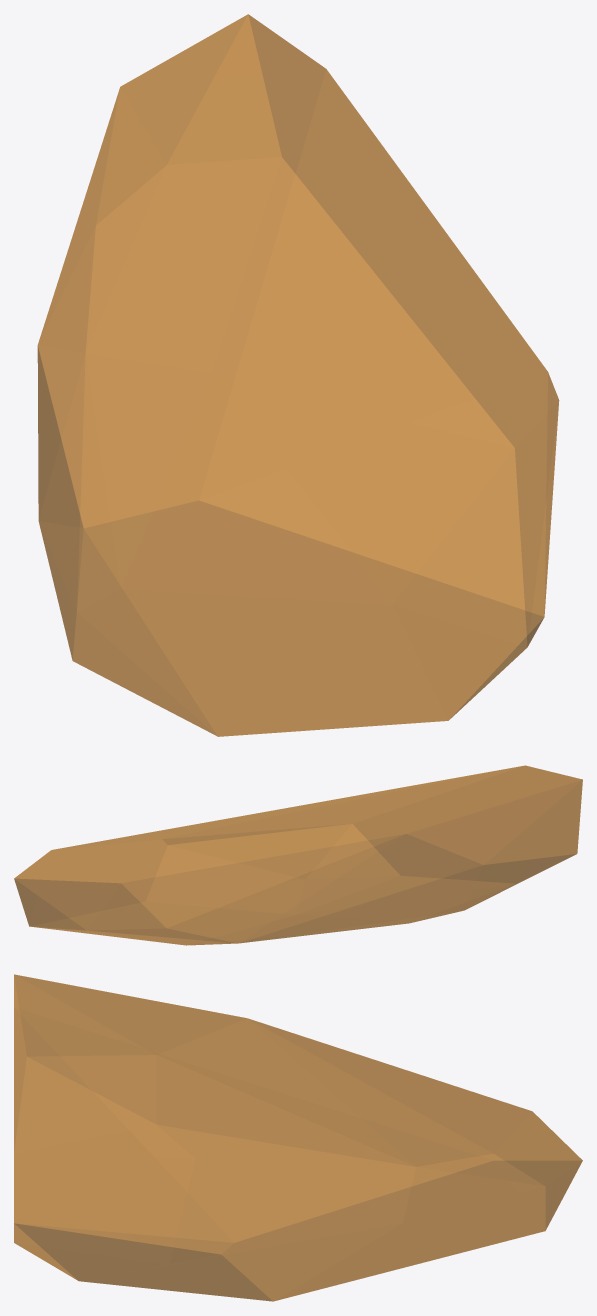
The picture shows the model from 3 angles, top to bottom: view 1: azimuth 30°, elevation 25°; view 2: azimuth 150°, elevation 25°; view 3: azimuth 270°, elevation 25°; orthographic projection. The views are drawn at different scales.
Visible parts, largest first — view 1: Shape_IndexedFaceSet.011_Shape_IndexedFaceSet.1950; view 2: Shape_IndexedFaceSet.011_Shape_IndexedFaceSet.1950; view 3: Shape_IndexedFaceSet.011_Shape_IndexedFaceSet.1950.
Boxes of the visible parts, bbox=[...] form: Shape_IndexedFaceSet.011_Shape_IndexedFaceSet.1950: bbox=[37, 14, 559, 736]; Shape_IndexedFaceSet.011_Shape_IndexedFaceSet.1950: bbox=[14, 765, 582, 945]; Shape_IndexedFaceSet.011_Shape_IndexedFaceSet.1950: bbox=[14, 974, 582, 1301].
Bounding box in the file's own units: 0.0897 × 0.0369 × 0.1158.
